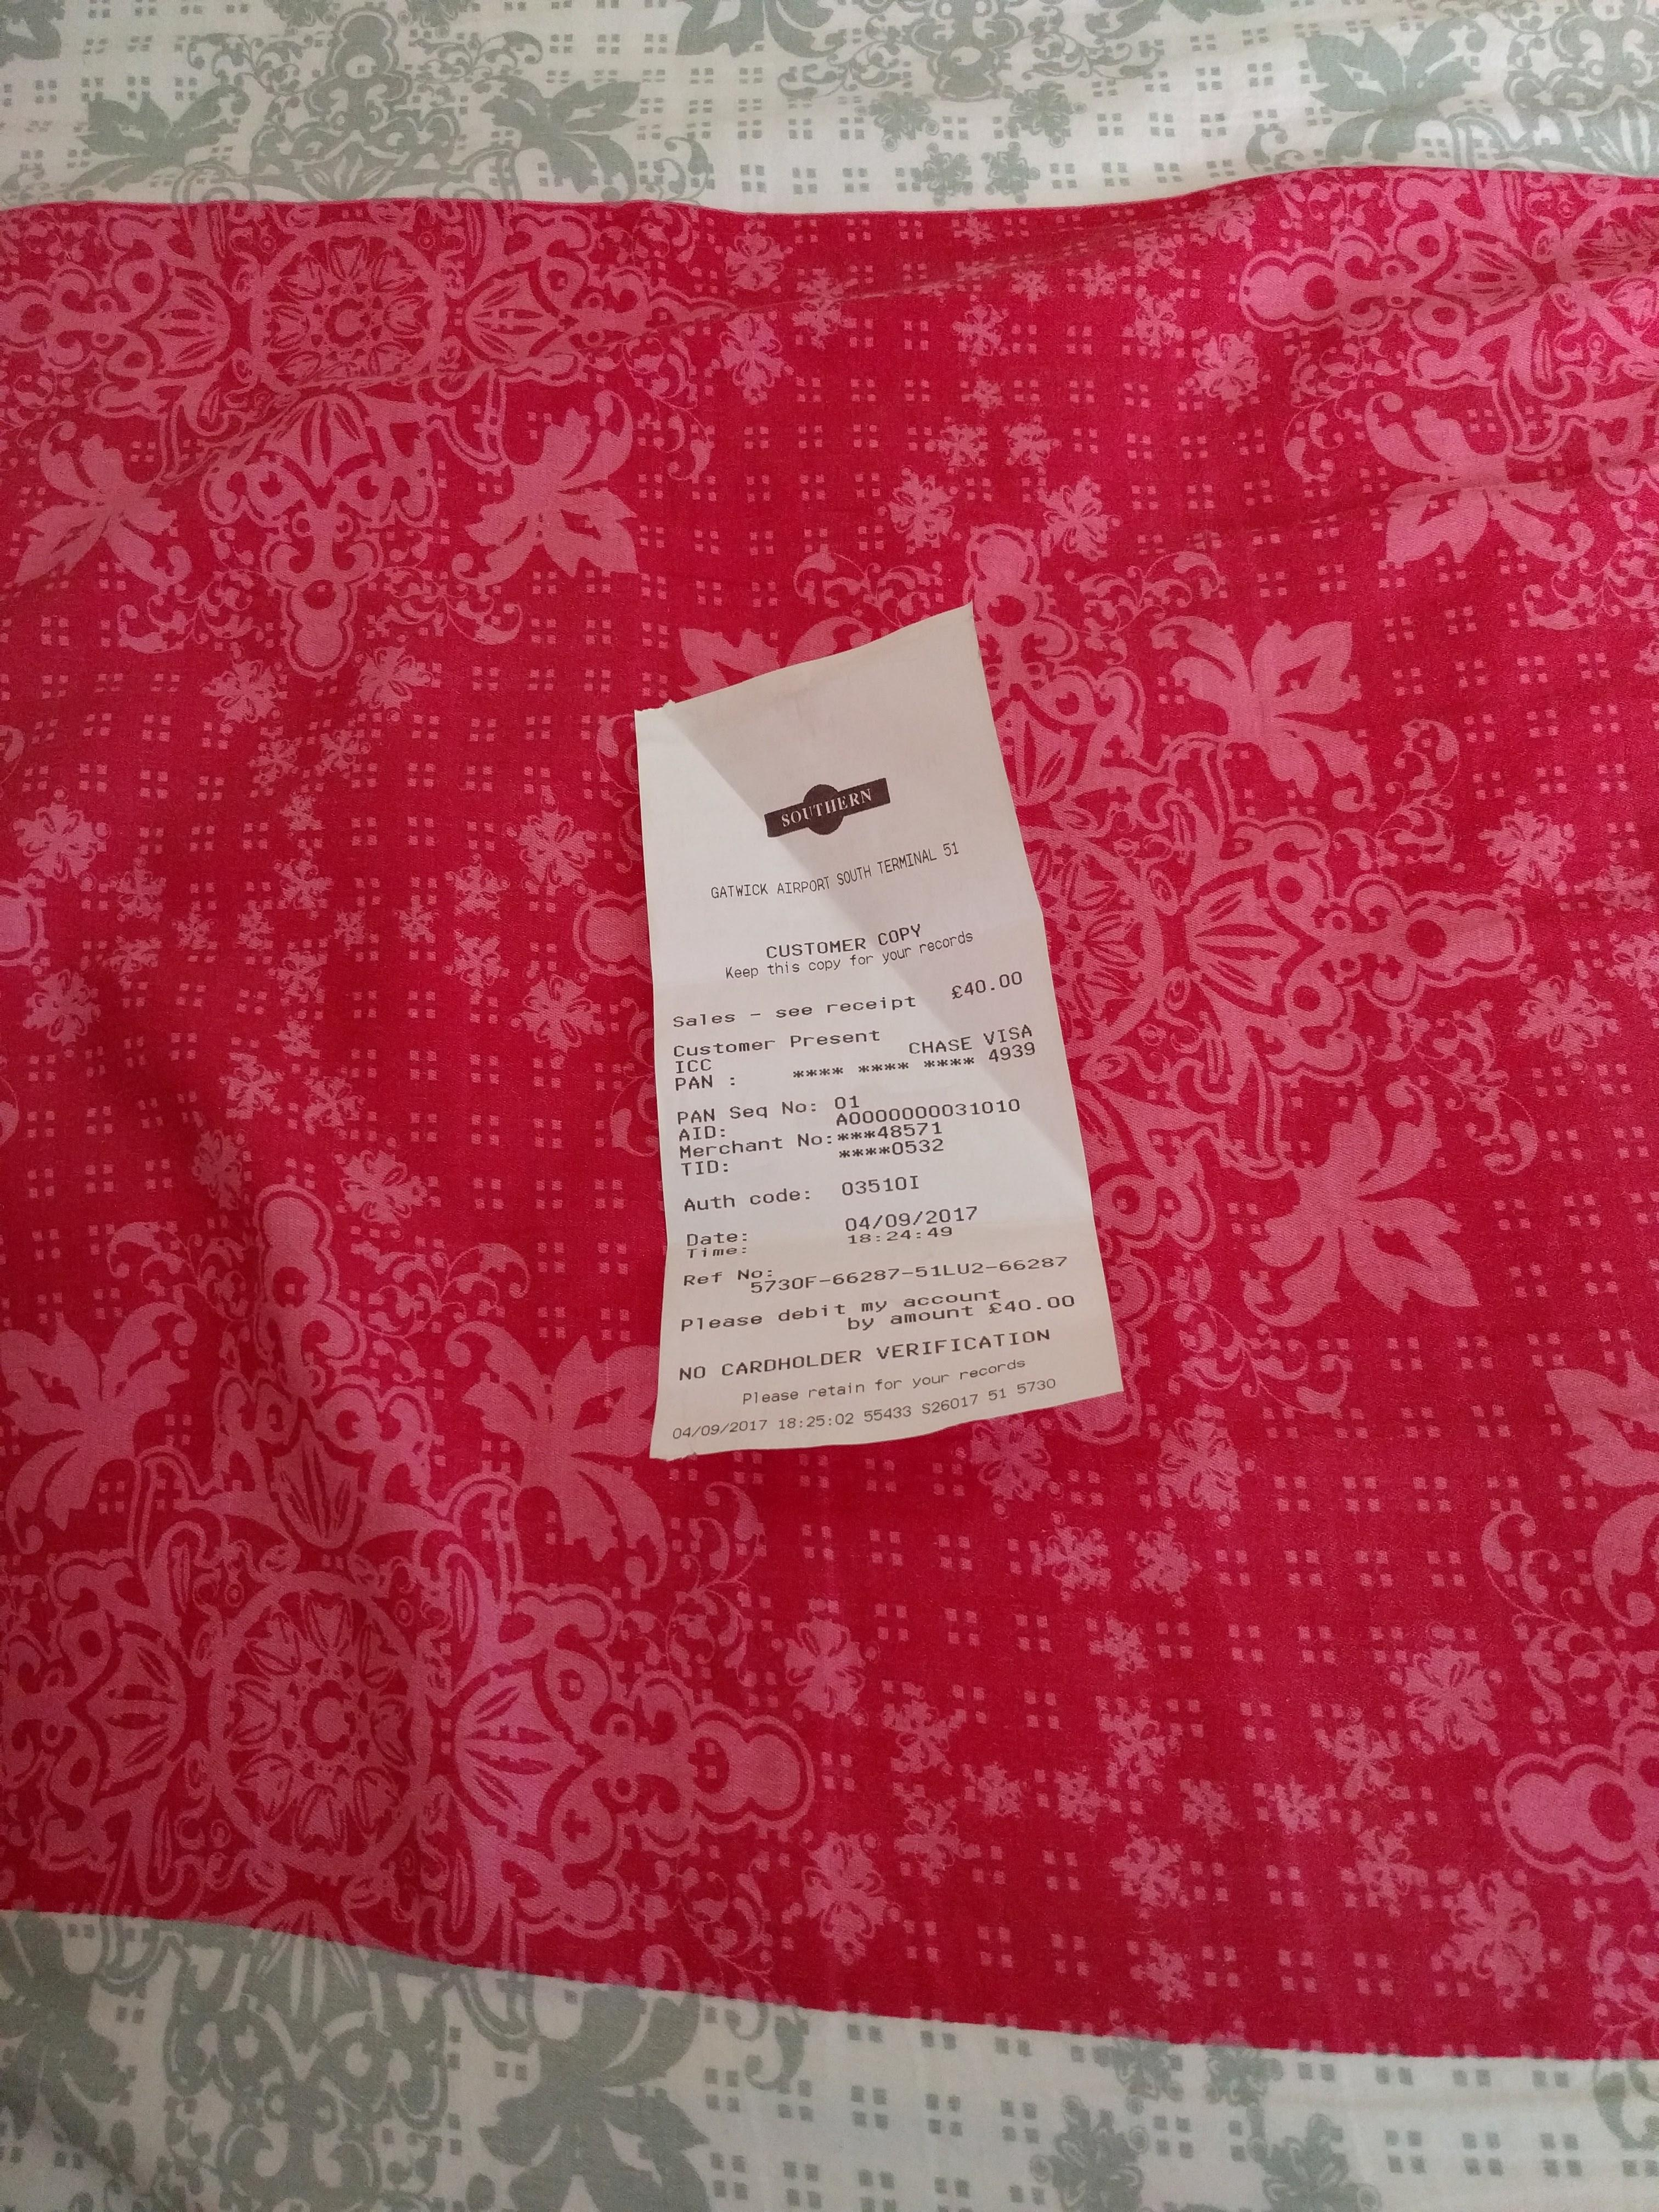paper: (444, 540, 1274, 2013)
